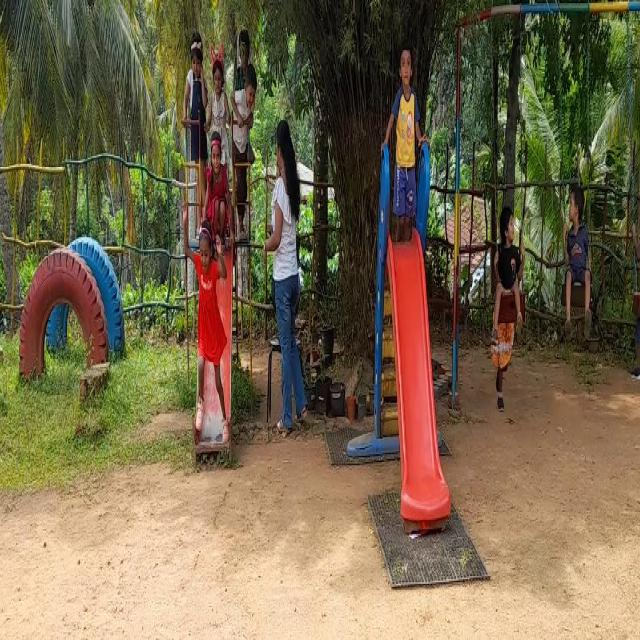adult: (269, 112, 317, 426)
child: (182, 232, 232, 438), (390, 26, 419, 261), (559, 162, 588, 340), (491, 194, 519, 363), (232, 62, 258, 238)
